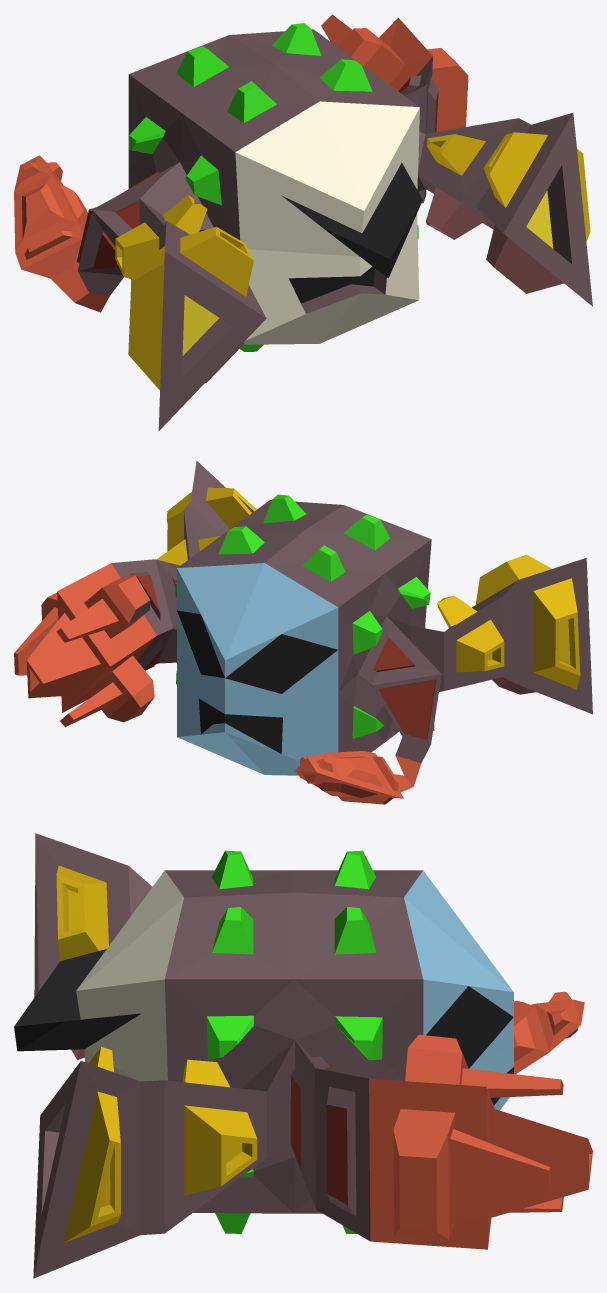
File: painElomental.glb
The picture shows the model from 3 angles, top to bottom: view 1: azimuth 30°, elevation 25°; view 2: azimuth 150°, elevation 25°; view 3: azimuth 270°, elevation 25°; orthographic projection. The views are drawn at different scales.
Visible parts, largest first — view 1: Cube; view 2: Cube; view 3: Cube.
Part boxes in pixels (<box>): Cube: <box>14,14,592,430</box>; Cube: <box>14,461,592,804</box>; Cube: <box>14,833,592,1278</box>.
Bounding box in the file's own units: 12.04 × 6.5 × 10.54.
Materials: 1 (1 with a texture image).
